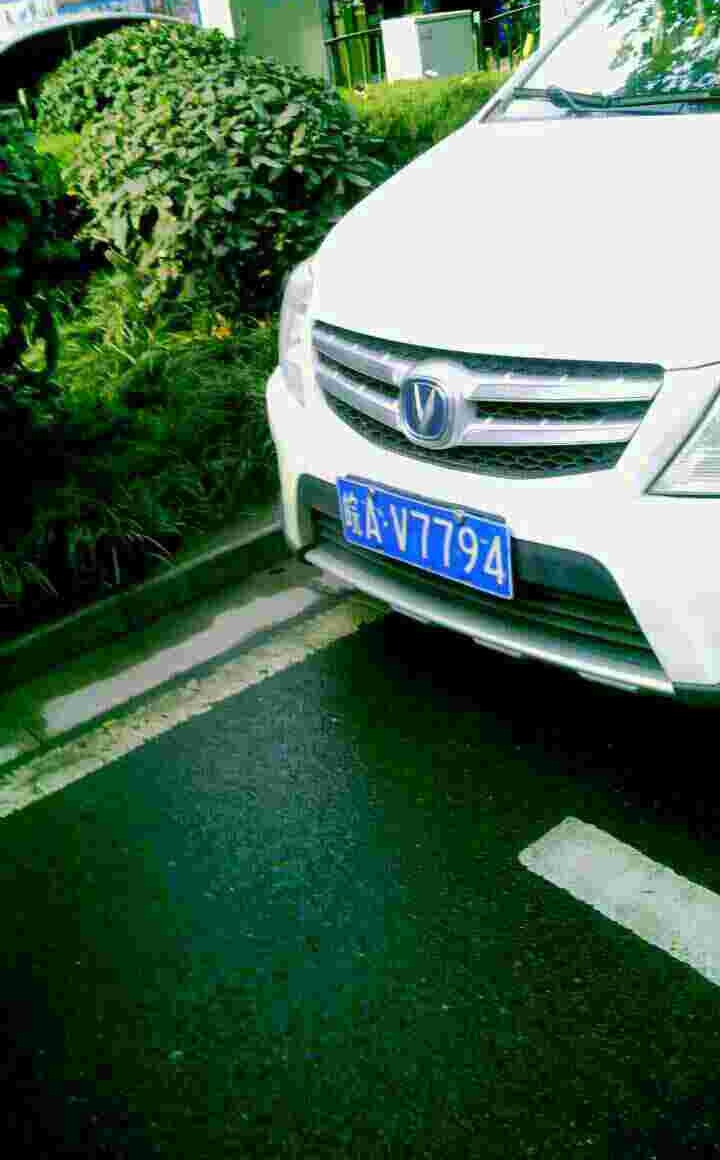license_plate: (337, 476, 523, 591)
